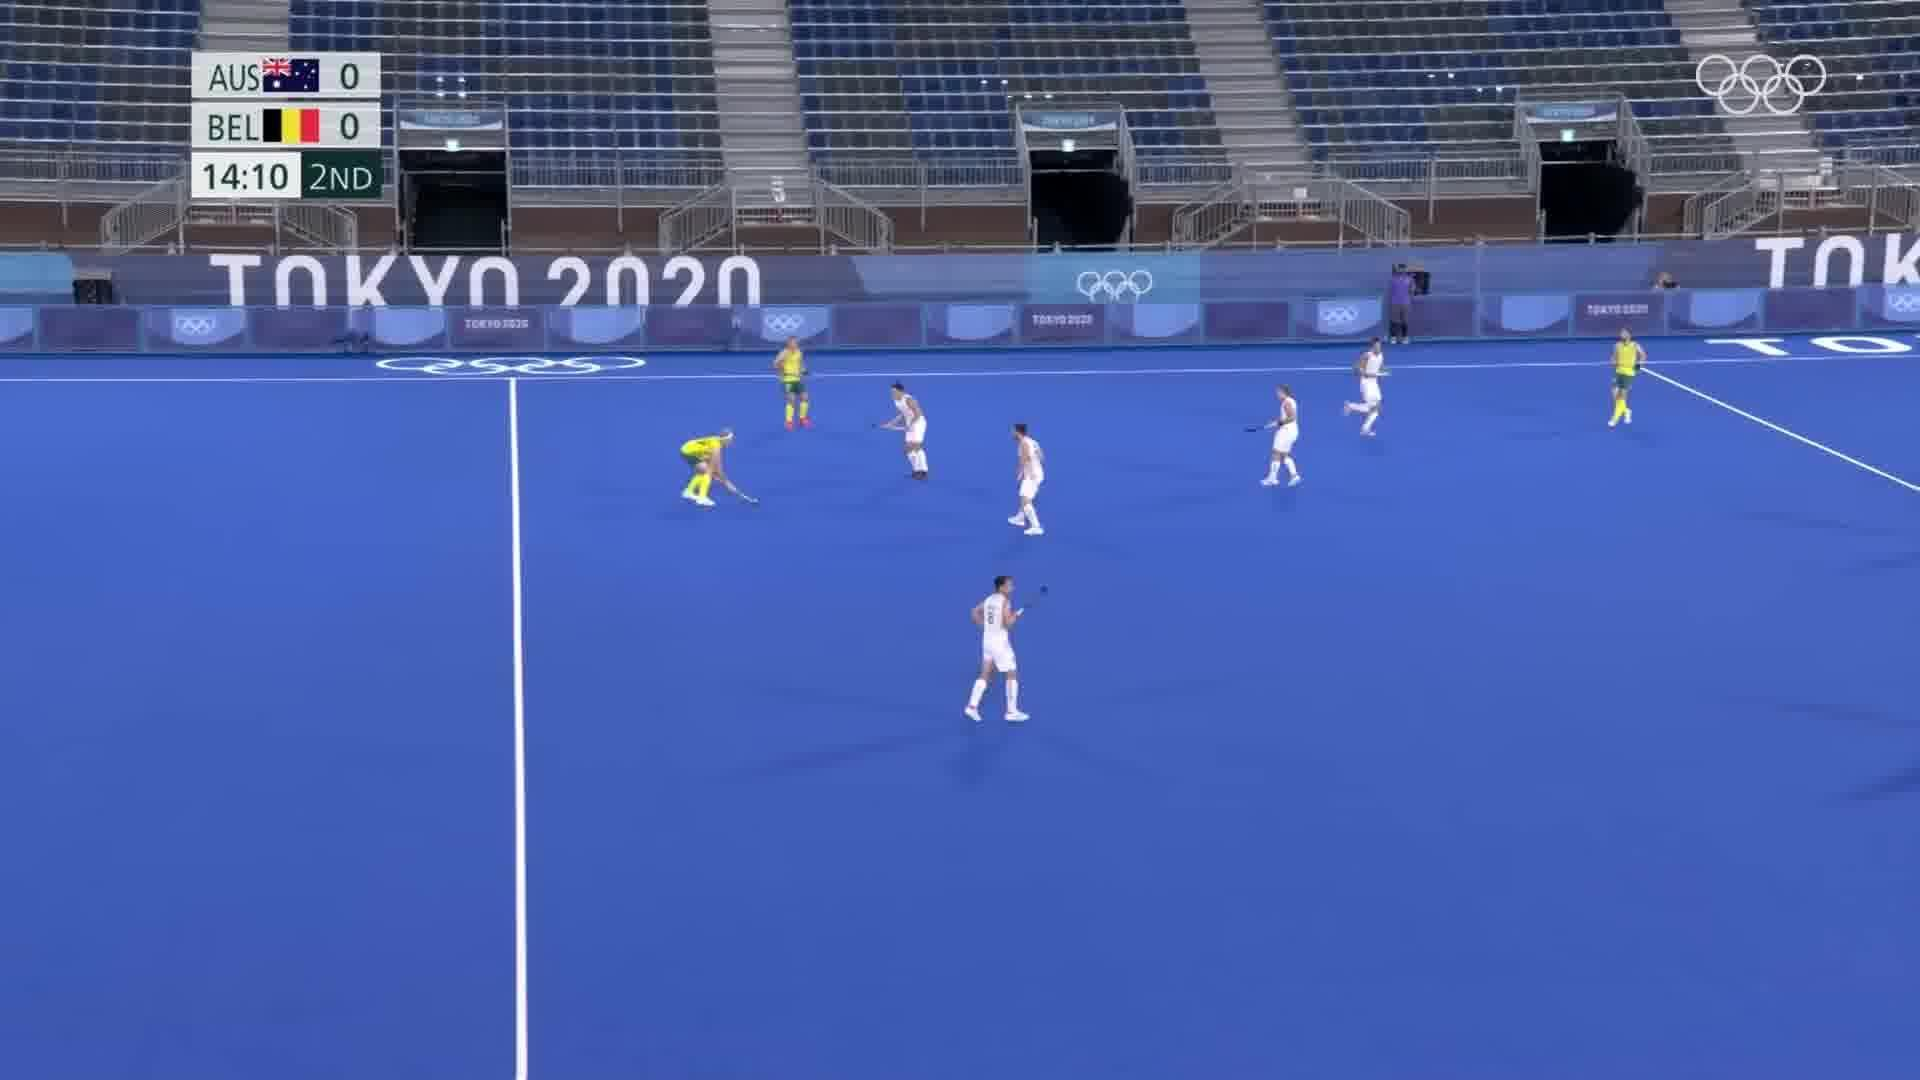ball: (749, 493, 760, 506)
